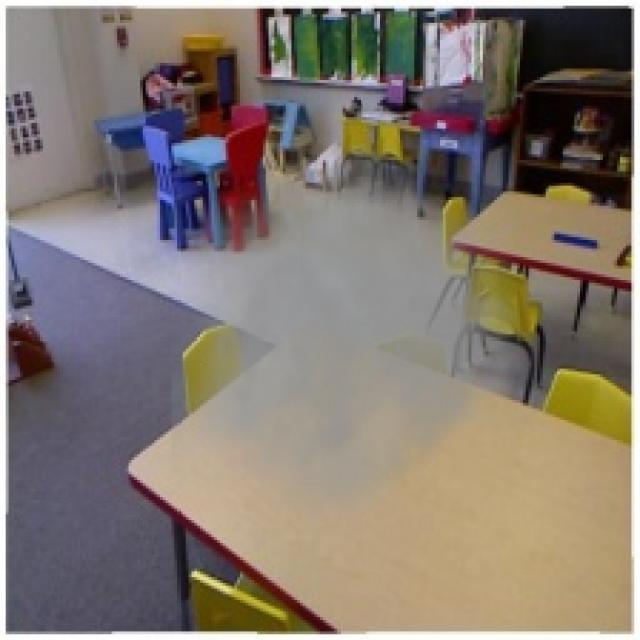smoke: (171, 123, 563, 537)
